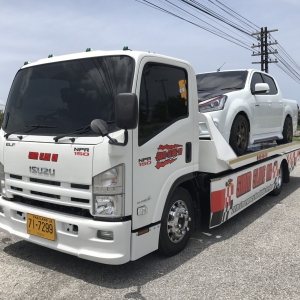truck: (1, 46, 199, 269)
